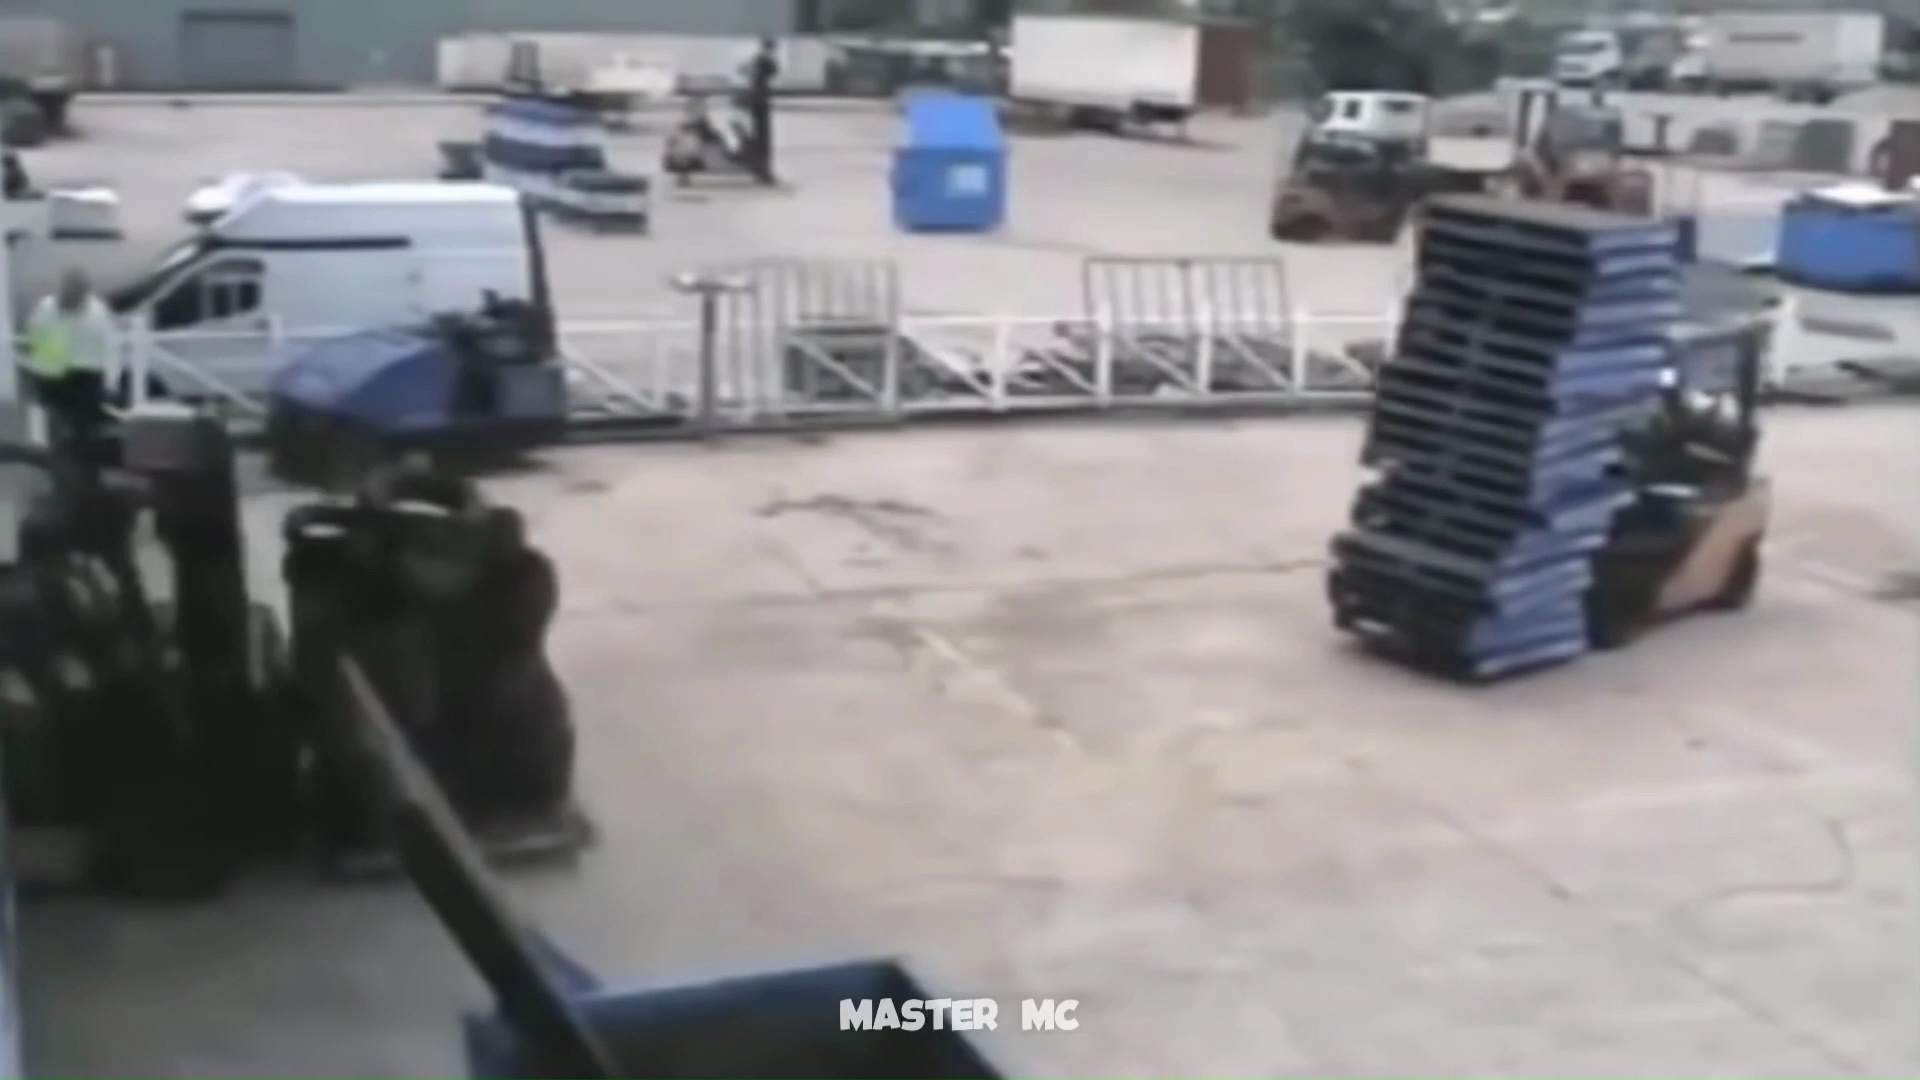forklift: (4, 394, 604, 890), (1320, 196, 1783, 694)
